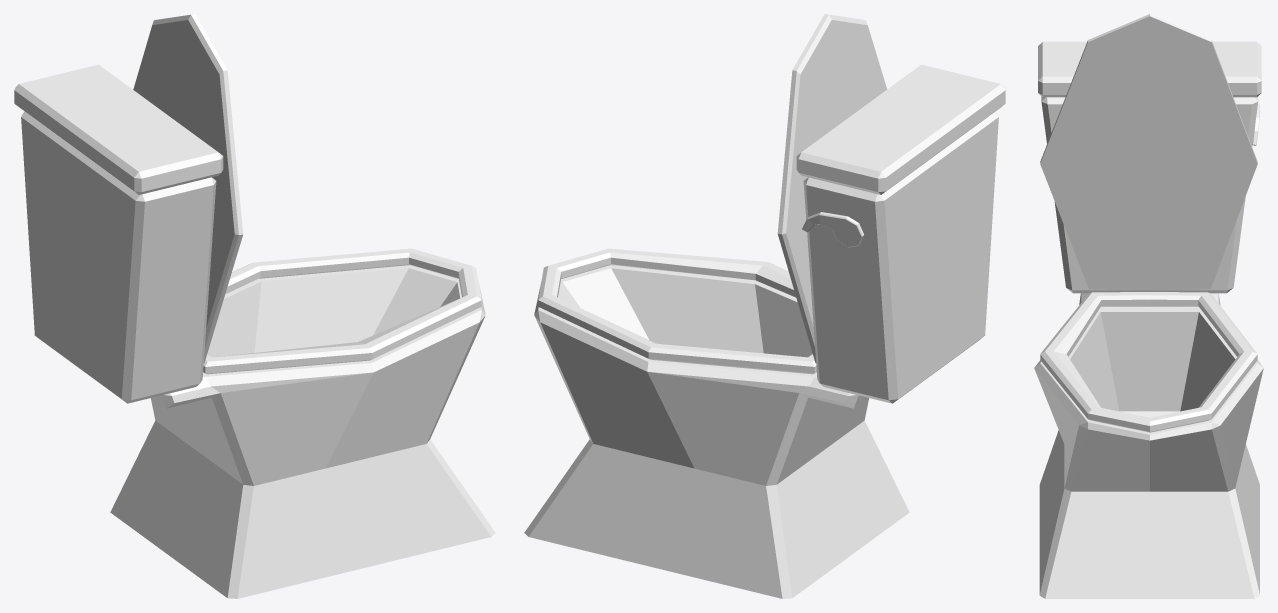
File: SM_ToiletOpen.fbx
The picture shows the model from 3 angles, left to right: view 1: azimuth 30°, elevation 25°; view 2: azimuth 150°, elevation 25°; view 3: azimuth 270°, elevation 25°; orthographic projection. The views are drawn at different scales.
Visible parts, largest first — view 1: Cube.032; view 2: Cube.032; view 3: Cube.032.
Part boxes in pixels (bbox=[...]): Cube.032: bbox=[14, 14, 495, 598]; Cube.032: bbox=[524, 14, 1005, 598]; Cube.032: bbox=[1034, 14, 1263, 598].
Size of the model in its own units: 47.93 by 86.97 by 113.
